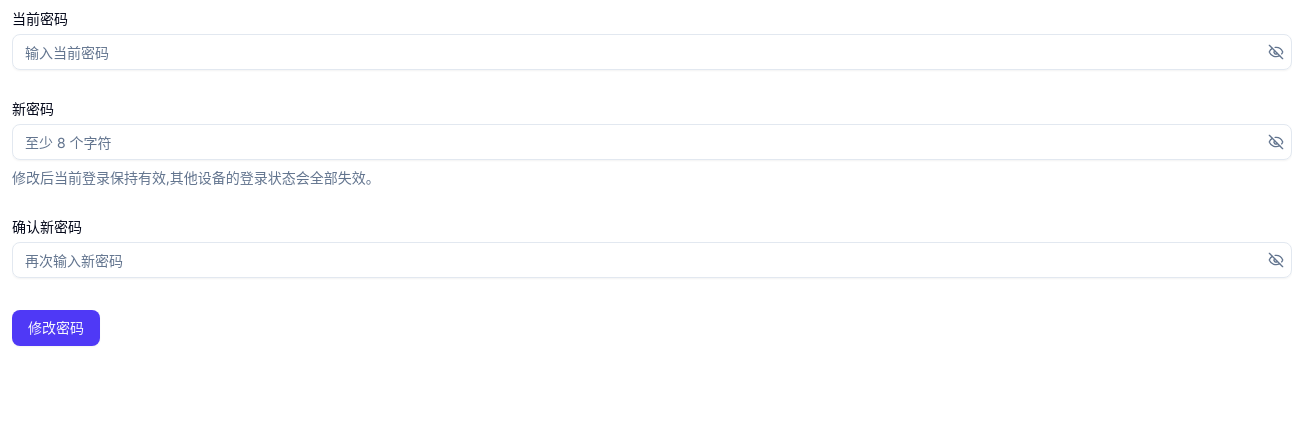
Test: PasswordForm › shows validation messages when submitting empty form
The width and height of the screenshot is (1304, 447).
Click the button "修改密码" at (56, 328), box [12, 310, 100, 346]
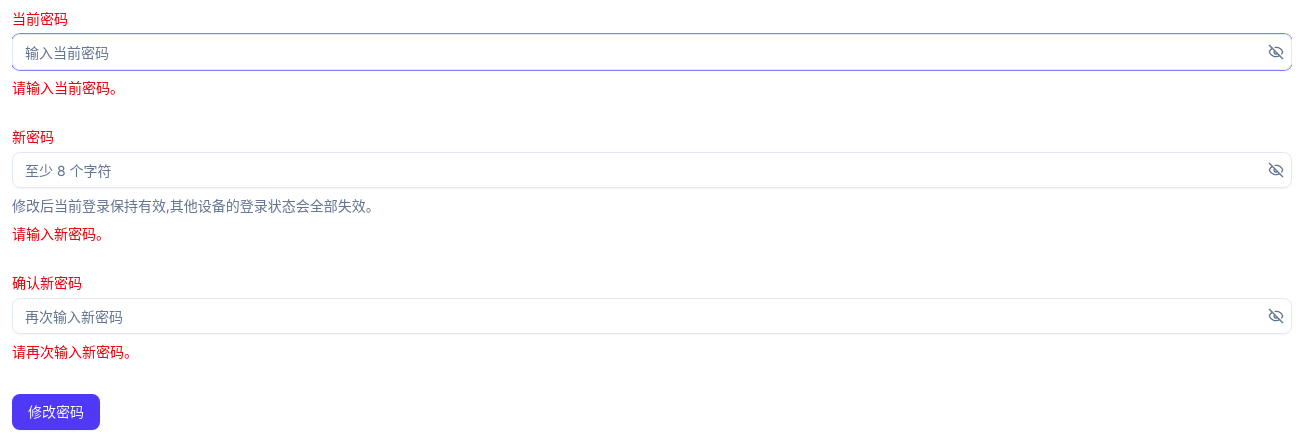
Now the text "请输入当前密码。" is shown, box [12, 79, 124, 96]
Now the text "请输入新密码。" is shown, box [12, 225, 110, 242]
Now the text "请再次输入新密码。" is shown, box [12, 343, 138, 360]
